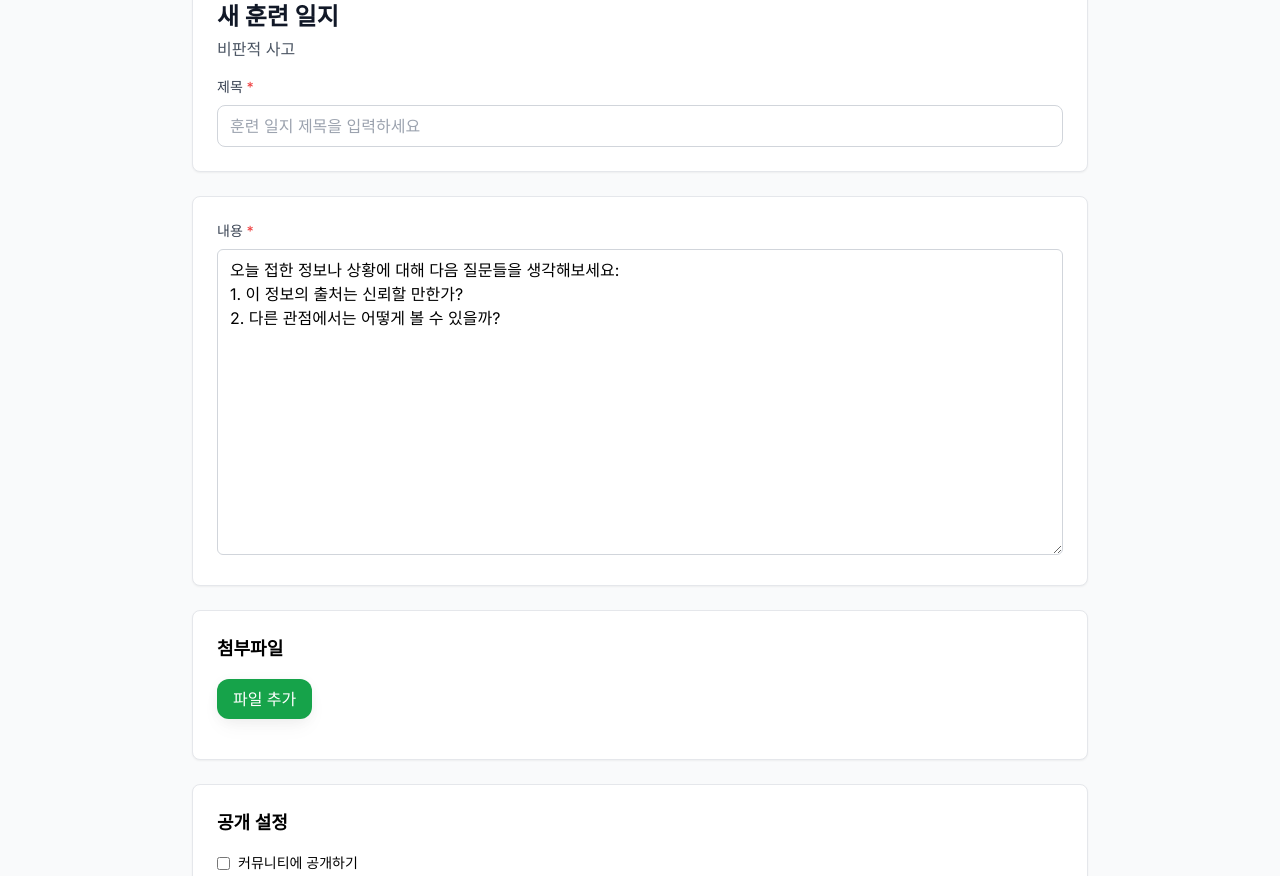
Test: Journal Creation Flow › handles API errors gracefully
This screenshot has width=1280, height=876.
# Fill in required fields
In the field labelled "제목 *": [640, 126] box 217,105 -> 1063,147, type "Test Journal"
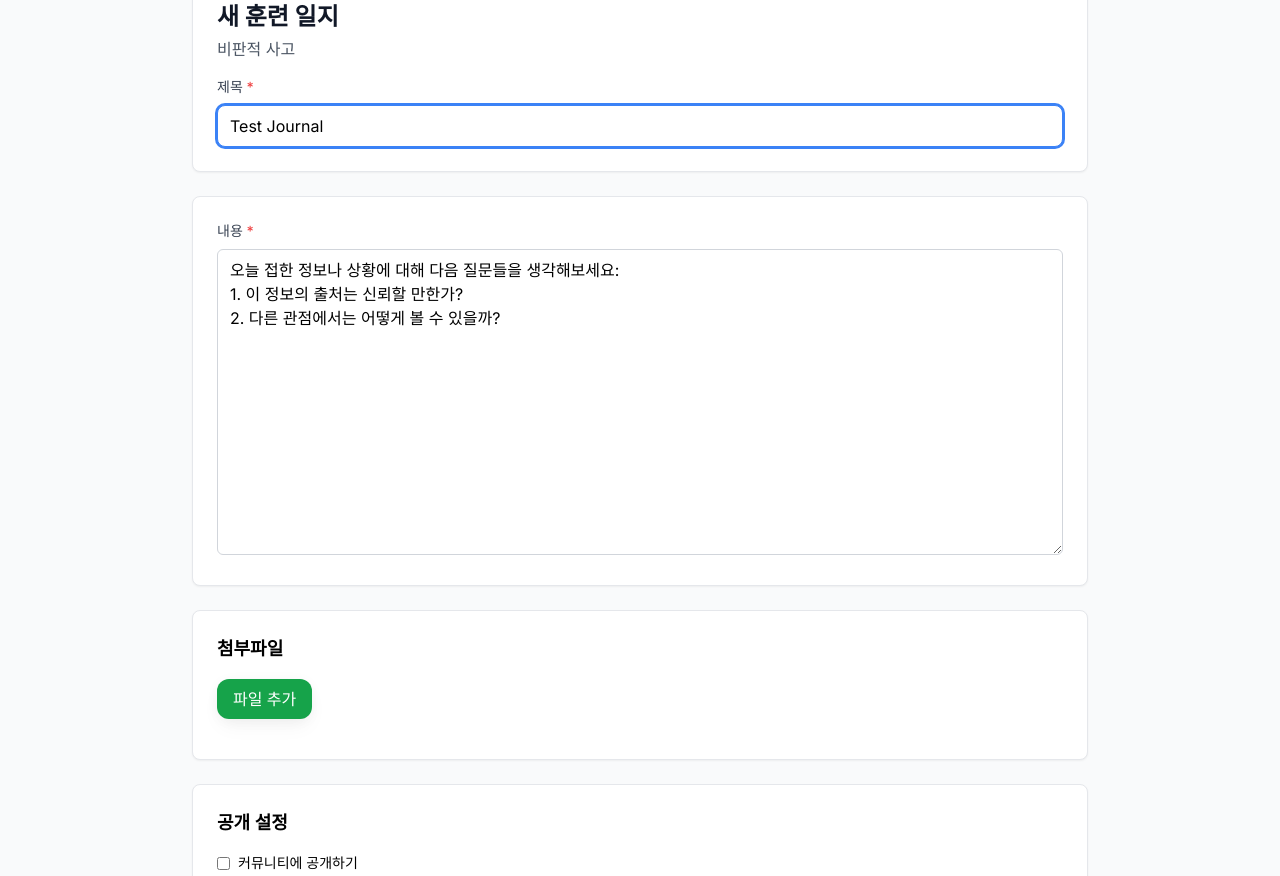
In the text box labelled "내용 *": [640, 402] box 217,249 -> 1063,555, type "Test content"
(page scrolled)
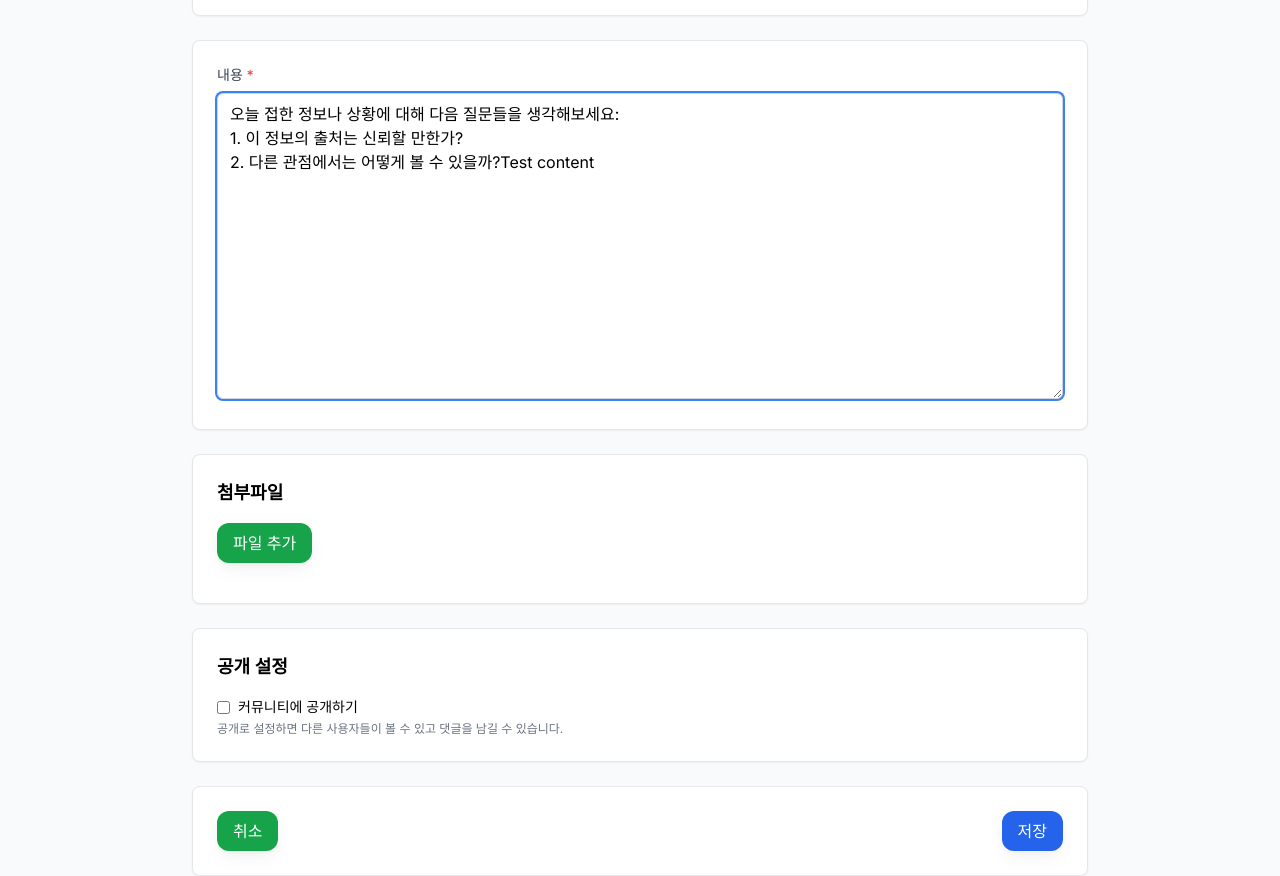
# Submit the form
Click the button "저장": [1032, 831] box 1002,811 -> 1063,851
(page scrolled)
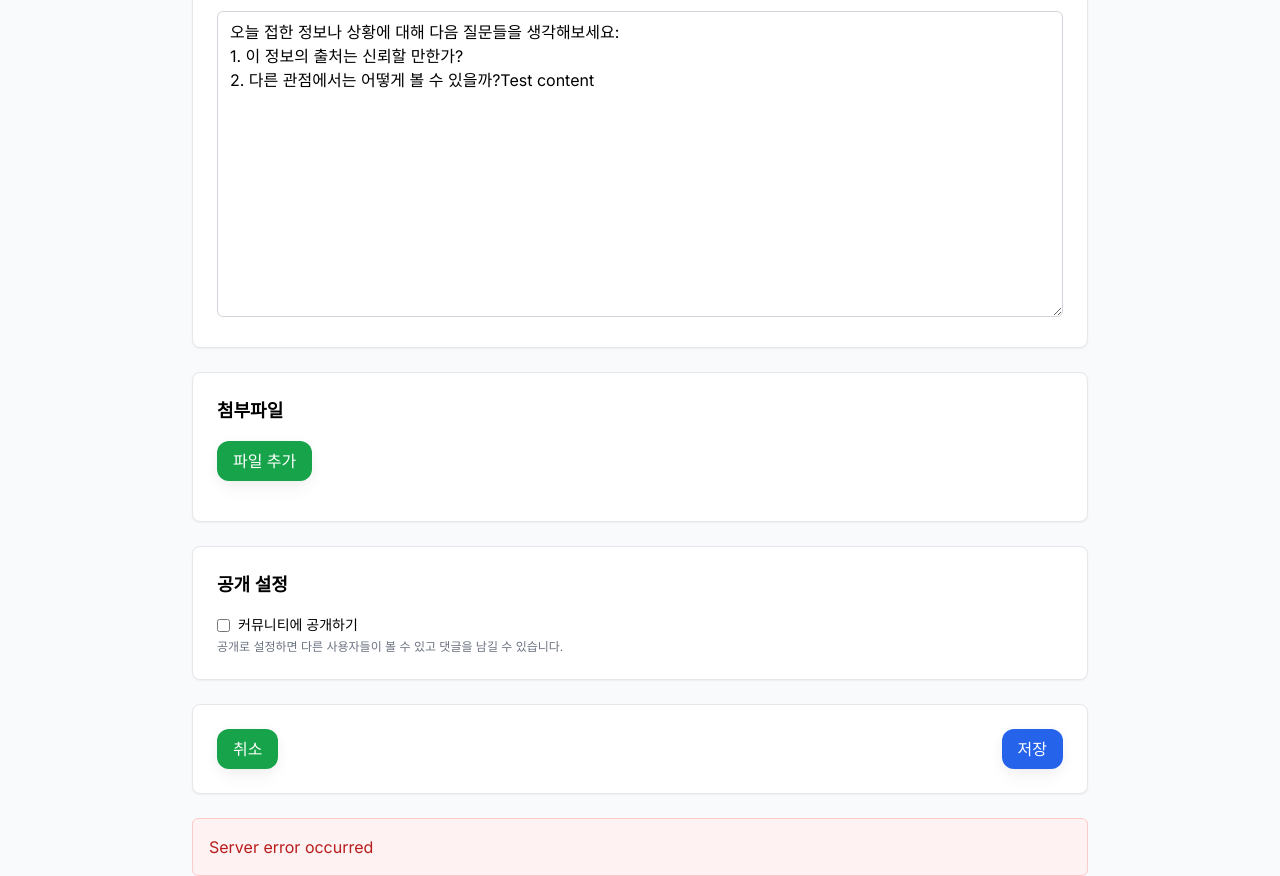
expect the text "Server error occurred" is shown: met, box 209,837 -> 373,857
